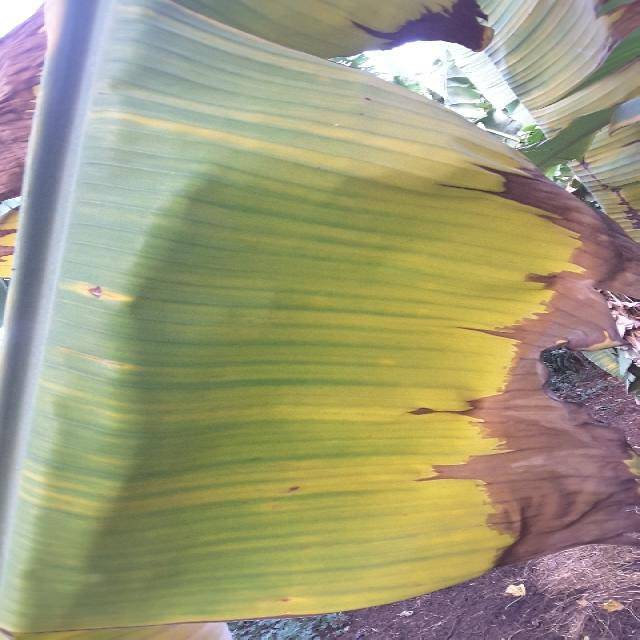Cordana: (82, 3, 541, 631), (10, 277, 154, 640), (477, 0, 640, 238), (0, 0, 43, 306), (8, 607, 260, 640)
